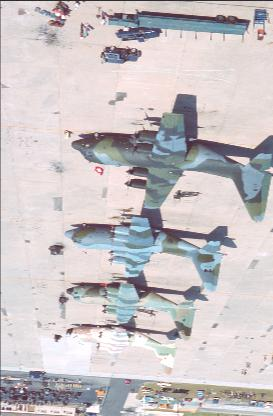Be200: (71, 111, 271, 222), (64, 216, 227, 292), (66, 283, 199, 341), (66, 324, 179, 374)
